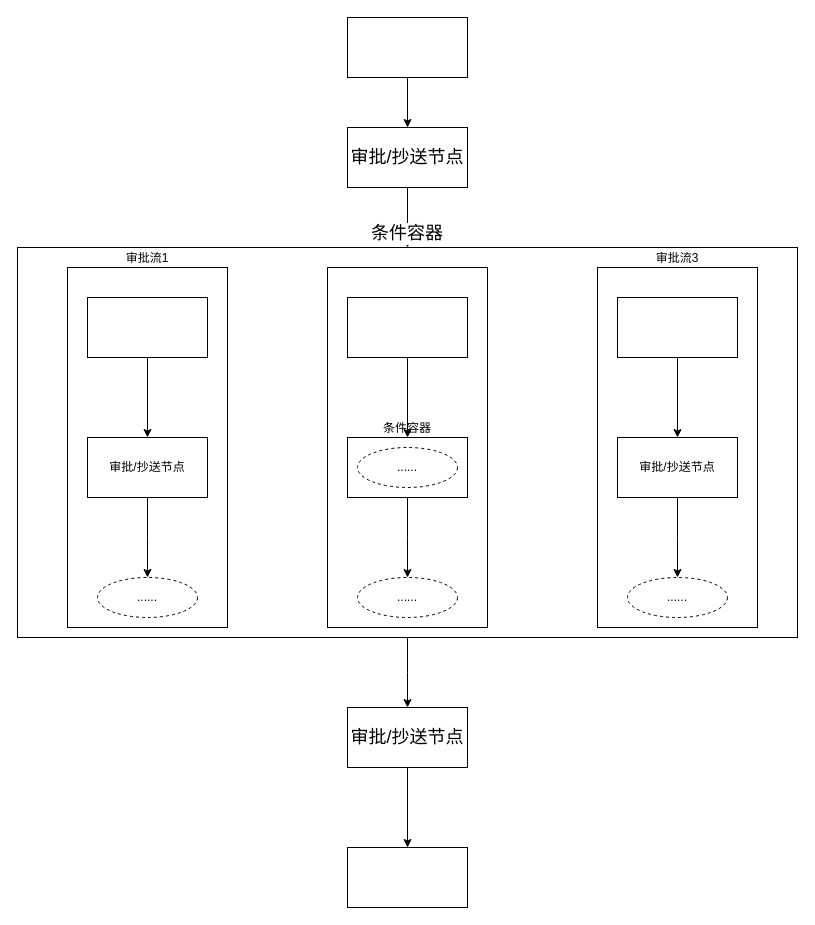
The diagram is 815 pixels wide and 925 high, and some of its shapes have lost their labels. Each missing label, with the box of its shape:
审批流2: (326, 266, 488, 628)
开始: (346, 16, 468, 78)
条件1: (86, 296, 208, 358)
条件2: (346, 296, 468, 358)
条件3: (616, 296, 738, 358)
结束: (346, 846, 468, 908)
